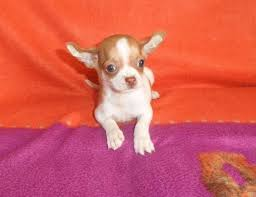chihuahua: (57, 22, 187, 162)
